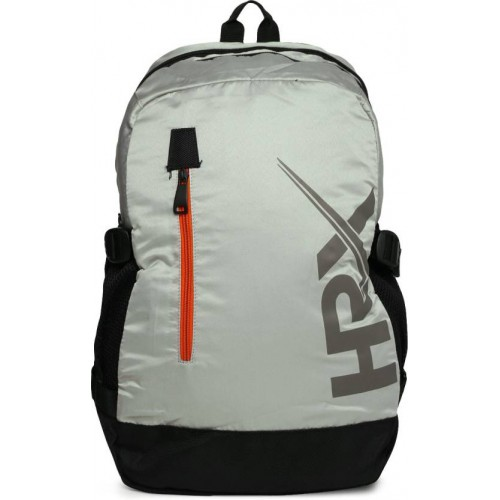backpack: (90, 0, 408, 495)
